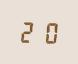two: (19, 19, 37, 43)
zero: (38, 19, 56, 44)
